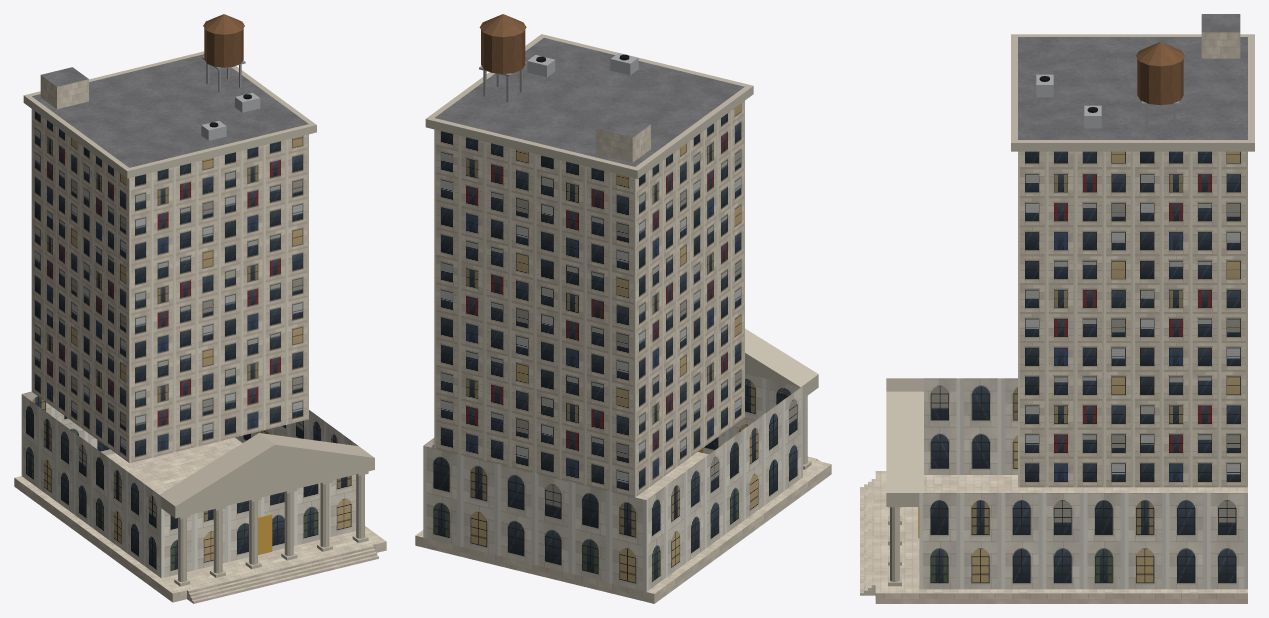
The model's file is 065_bank_tower.glb.
3 views of the same model, side by side, from view 1: azimuth 30°, elevation 25°; view 2: azimuth 150°, elevation 25°; view 3: azimuth 270°, elevation 25° (orthographic). The views are drawn at different scales.
Parts seen in each view (by area): view 1: 065_bank_tower; view 2: 065_bank_tower; view 3: 065_bank_tower.
Part boxes in pixels (x1,y1,x2,y2): 065_bank_tower: [14, 14, 386, 603]; 065_bank_tower: [415, 14, 831, 603]; 065_bank_tower: [860, 14, 1254, 603].
Bounding box in the file's own units: 30 × 61.4 × 40.8.
Materials: 10 (5 with a texture image).
